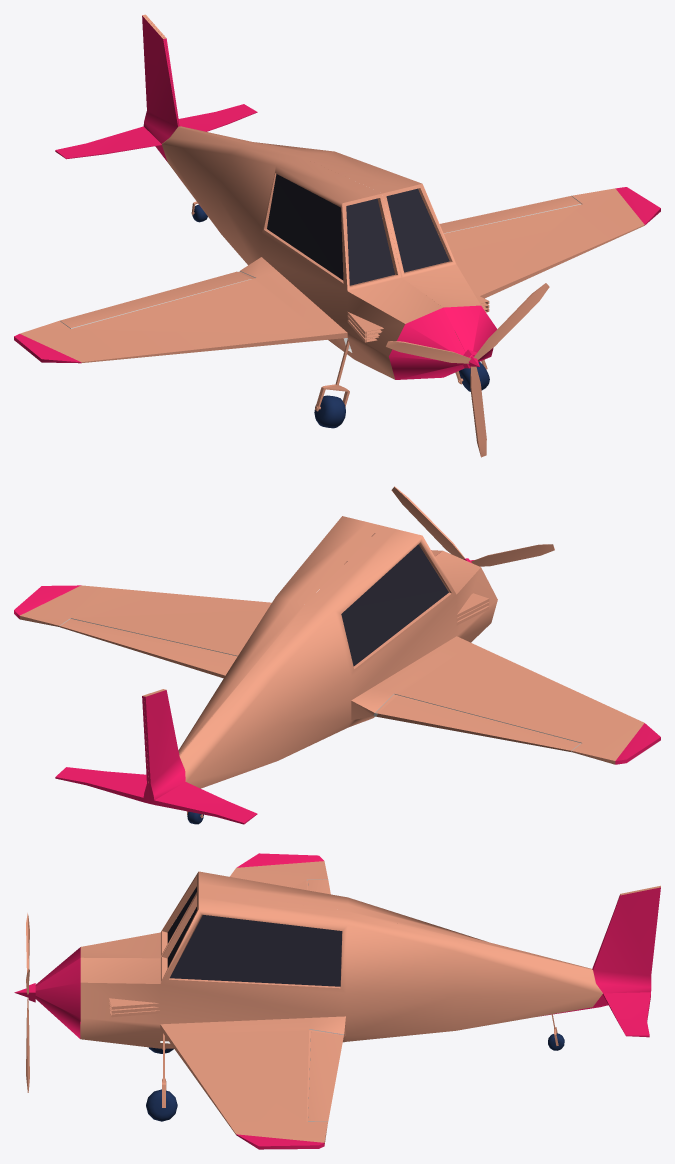
The model's file is cartoon_plane_adult_br.glb.
The picture shows the model from 3 angles, top to bottom: view 1: azimuth 30°, elevation 25°; view 2: azimuth 150°, elevation 25°; view 3: azimuth 270°, elevation 25°; orthographic projection. The views are drawn at different scales.
Visible parts, largest first — view 1: Cube_1_3, Cube_3, Propeller_1, Wheel_4; view 2: Cube_1_3, Cube_3, Propeller_1; view 3: Cube_1_3, Cube_3, Propeller_1, Wheel_2.
Boxes of the visible parts, x1,y1,x2,y2 form: Cube_1_3: (14, 14, 660, 379); Cube_3: (17, 39, 464, 379); Propeller_1: (385, 283, 549, 457); Wheel_4: (314, 395, 345, 428); Cube_1_3: (14, 516, 660, 824); Cube_3: (144, 540, 660, 824); Propeller_1: (391, 486, 554, 566); Cube_1_3: (35, 854, 660, 1149); Cube_3: (80, 853, 620, 1023); Propeller_1: (14, 913, 35, 1092); Wheel_2: (146, 1089, 177, 1121).
Bounding box in the file's own units: 2.09 × 0.6676 × 1.96.
